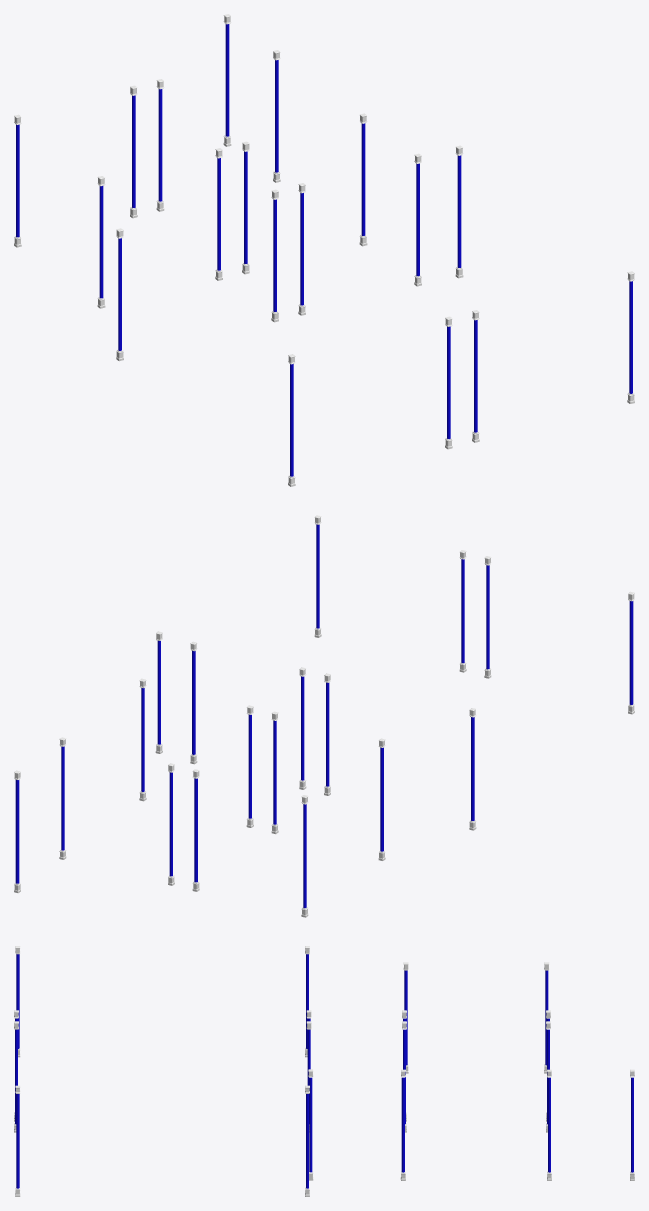
File: Catacomb -2 Columns.fbx
3 renders of one model, top to bottom at view 1: azimuth 30°, elevation 25°; view 2: azimuth 150°, elevation 25°; view 3: azimuth 270°, elevation 25°, orthographic. The views are drawn at different scales.
Visible parts, largest first — view 1: Cube.034, Cube.019, Cube.016, Cube.035, Cube.043, Cube.045; view 2: Cube.019, Cube.034, Cube.016, Cube.043, Cube.035, Cube.045; view 3: Cube.019, Cube.043, Cube.016, Cube.035, Cube.034, Cube.047, Cube.045.
Part boxes in pixels (x1,y1,x2,y2): Cube.034: (130,79,249,280); Cube.019: (116,145,634,486); Cube.016: (271,183,479,449); Cube.035: (14,114,105,308); Cube.043: (273,50,367,246); Cube.045: (223,14,231,146); Cube.019: (155,515,634,830); Cube.034: (168,705,278,891); Cube.016: (299,550,491,795); Cube.043: (59,678,146,859); Cube.035: (301,738,385,917); Cube.045: (14,770,20,893); Cube.019: (15,946,309,1196); Cube.043: (400,1069,551,1180); Cube.016: (14,1010,311,1132); Cube.035: (403,962,549,1073); Cube.034: (402,1010,550,1132); Cube.047: (308,1069,313,1180); Cube.045: (630,1069,634,1180).
Bounding box in the file's own units: 10985 × 3956 × 20348.
